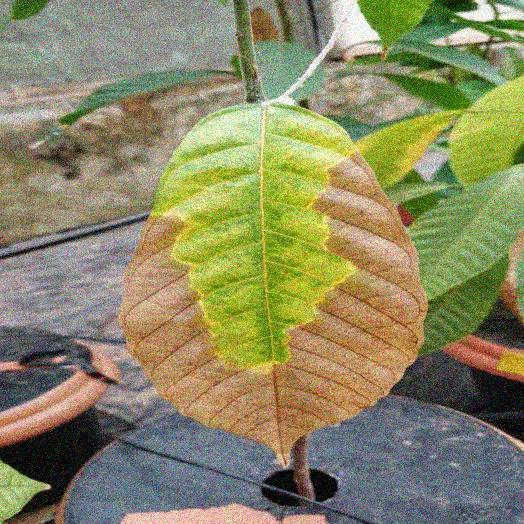Potassium: (121, 101, 426, 461)
